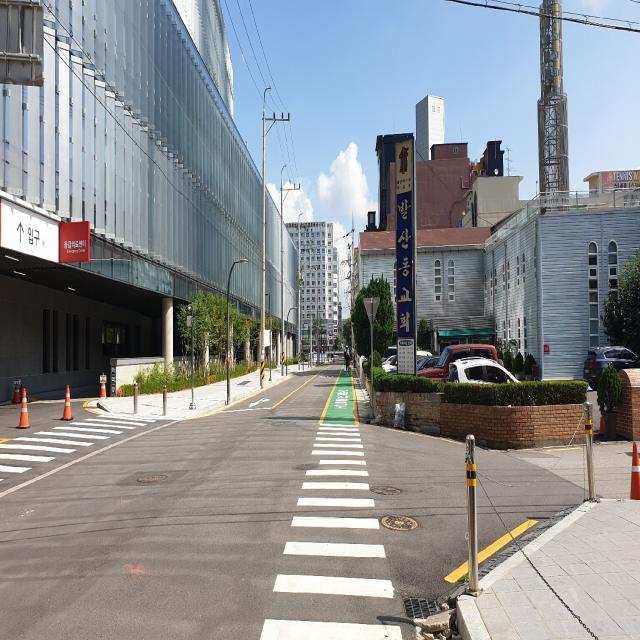횡단보도: (258, 420, 404, 640), (0, 402, 163, 491)
